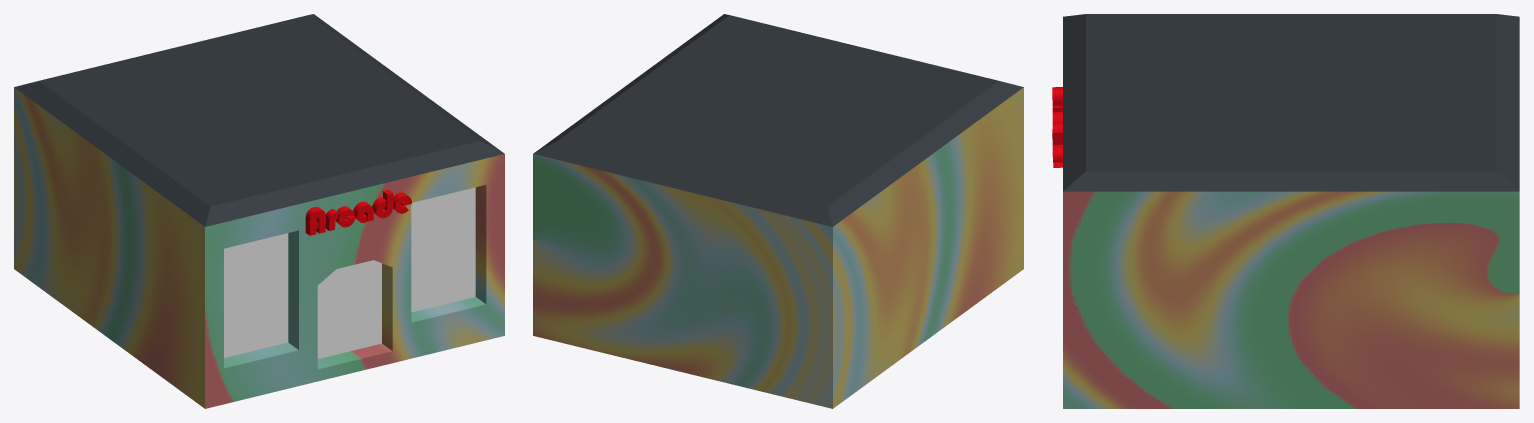
Rendered from Arcade Outside.fbx.
The picture shows the model from 3 angles, left to right: view 1: azimuth 30°, elevation 25°; view 2: azimuth 150°, elevation 25°; view 3: azimuth 270°, elevation 25°; orthographic projection. The views are drawn at different scales.
Visible parts, largest first — view 1: Cube, Arc; view 2: Cube; view 3: Cube, Arc.
Boxes of the visible parts, x1=… form: Cube: x1=14, y1=14, x2=504, y2=408; Arc: x1=305, y1=189, x2=411, y2=235; Cube: x1=533, y1=14, x2=1023, y2=408; Cube: x1=1063, y1=14, x2=1519, y2=408; Arc: x1=1052, y1=87, x2=1062, y2=167.
Size of the model in its own units: 1122 by 685 by 1268.
